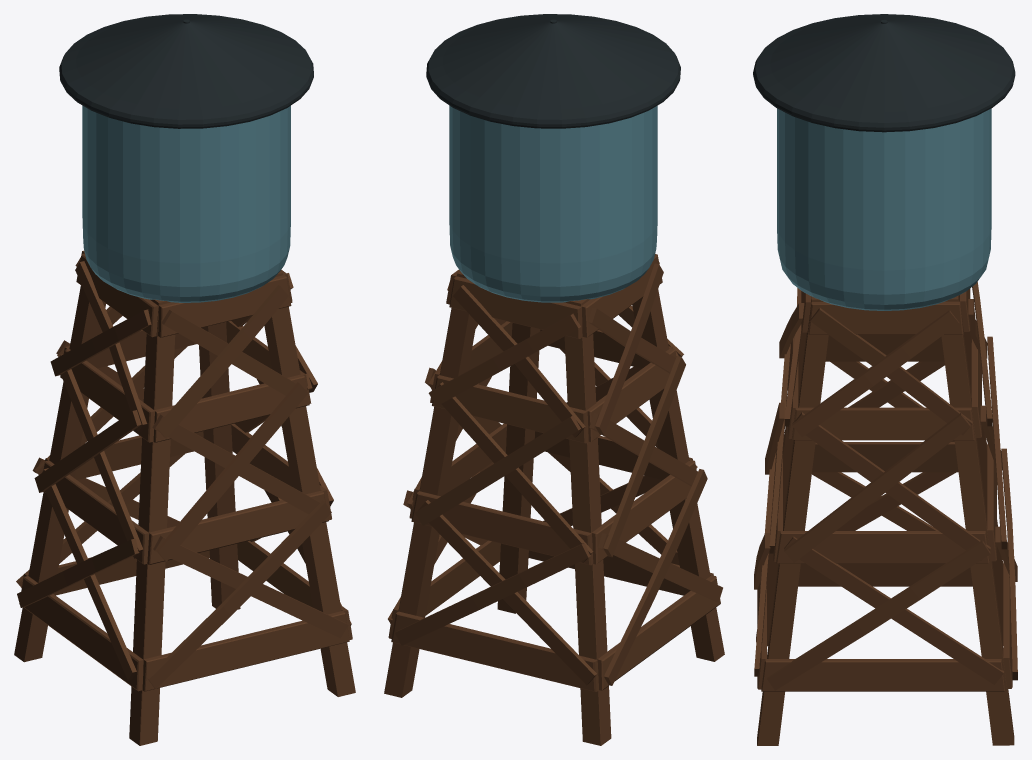
File: Water_Tank_V02.fbx
The picture shows the model from 3 angles, left to right: view 1: azimuth 30°, elevation 25°; view 2: azimuth 150°, elevation 25°; view 3: azimuth 270°, elevation 25°; orthographic projection. The views are drawn at different scales.
Visible parts, largest first — view 1: Water_Tank; view 2: Water_Tank; view 3: Water_Tank.
Boxes of the visible parts, x1,y1,x2,y2 form: Water_Tank: [14, 14, 355, 745]; Water_Tank: [384, 14, 724, 745]; Water_Tank: [753, 14, 1017, 745].
Bounding box in the file's own units: 143 × 400 × 143.
